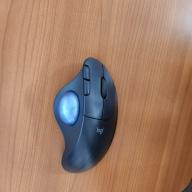mouse: (50, 49, 120, 173)
